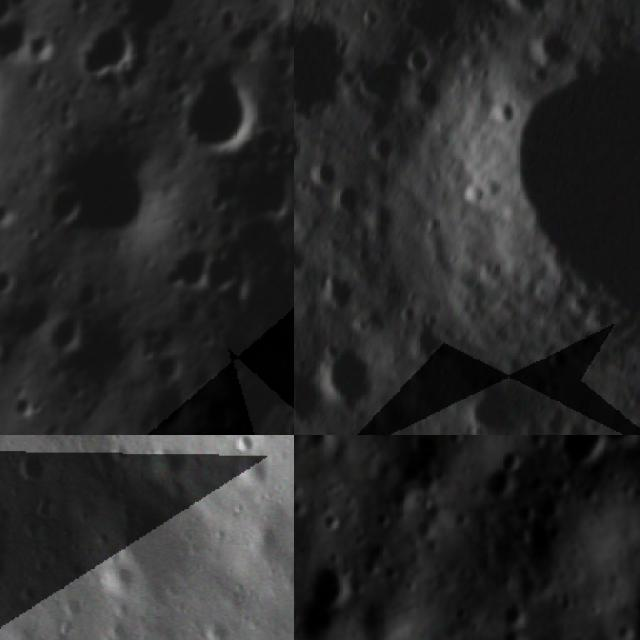crater: (383, 0, 640, 427), (40, 132, 170, 249), (294, 5, 380, 144), (170, 56, 274, 162), (302, 329, 388, 422), (451, 367, 540, 435), (75, 10, 146, 90), (159, 229, 224, 304), (0, 276, 59, 345), (37, 299, 98, 362), (294, 354, 340, 435), (198, 243, 252, 307), (145, 378, 204, 435), (0, 479, 27, 582), (308, 552, 358, 607), (4, 378, 48, 433), (146, 435, 194, 484), (144, 345, 191, 393), (552, 435, 606, 473), (25, 24, 65, 69), (10, 443, 52, 485), (471, 469, 515, 507), (98, 557, 135, 594), (496, 594, 525, 628), (0, 194, 22, 236), (499, 446, 530, 474), (492, 623, 523, 640)
